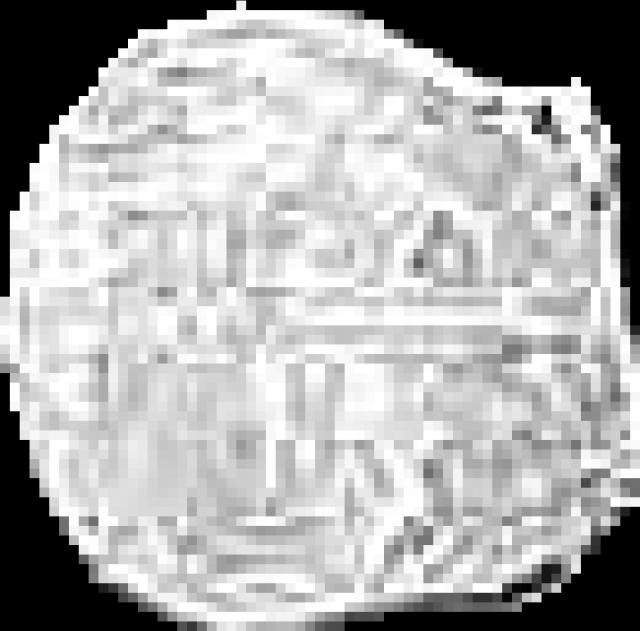tumor_moderate_chance: (0, 1, 640, 631)
